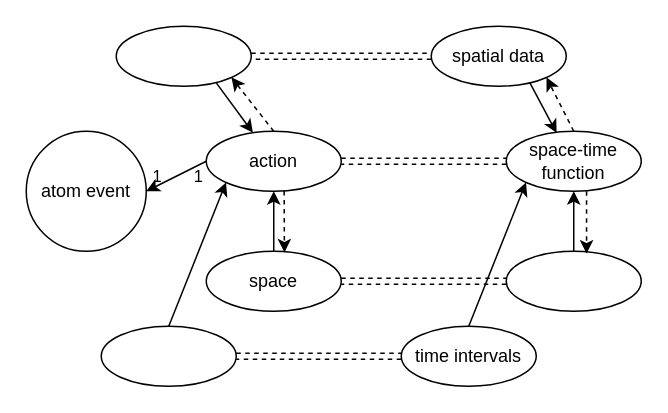
The diagram is 668 pixels wide and 413 high, and some of its shapes have lost their labels. The shapes that lost their labels are listed below. From the top down, each one's centre as x and y in pixels, then its label:
At point 183,55: "actors".
At point 573,280: "viewing space".
At point 168,355: "time".
